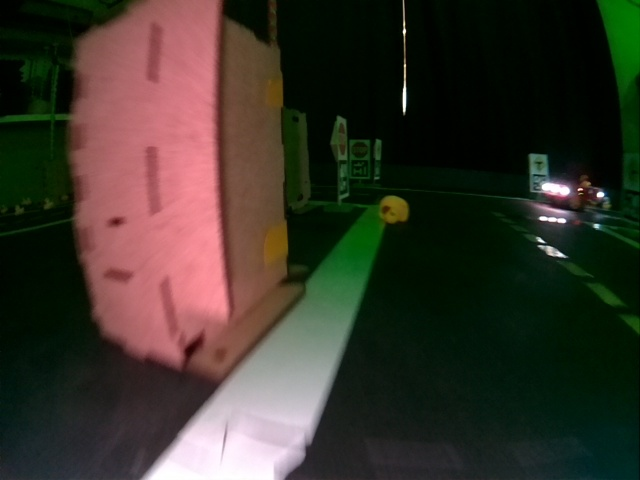Duckie: (379, 195, 409, 223)
Duckiebot: (543, 180, 604, 208)
Intersection sign: (531, 155, 548, 167)
QR code: (338, 164, 348, 199), (351, 161, 368, 178), (534, 177, 544, 191)
Stop sign: (338, 123, 347, 157), (352, 142, 369, 154)
